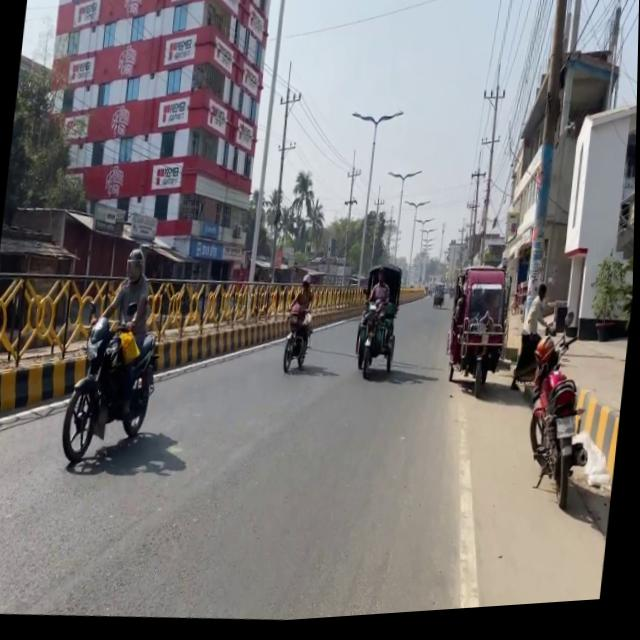Construction-barrier: (0, 300, 292, 445), (0, 345, 88, 425)
Downstairs: (552, 307, 570, 341)
Fallen-tree: (60, 296, 167, 470), (353, 300, 401, 387), (510, 325, 559, 404), (282, 309, 317, 379)
Garbage: (442, 268, 514, 407)
Garbage-bin: (83, 245, 159, 422), (284, 280, 319, 362), (362, 271, 394, 350)
Muddy road: (585, 253, 635, 352)
Pothole: (485, 308, 632, 548), (498, 308, 632, 431)
